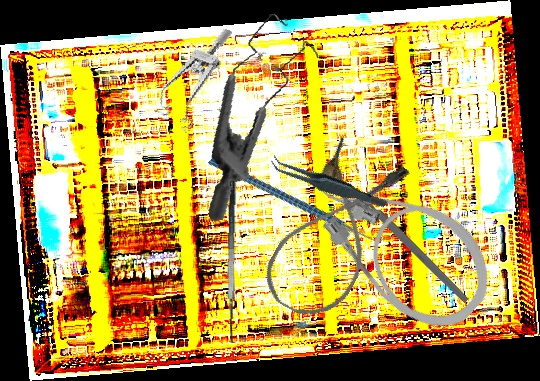Cannula: (292, 134, 512, 350), (253, 132, 416, 331)
Chopper: (207, 106, 395, 294)
Scalpel Handle: (356, 190, 470, 305)
Spatula Surgical: (222, 180, 251, 344)
Speculum: (176, 7, 344, 222), (150, 15, 233, 137)
Tissue Forceps: (267, 135, 389, 231)
